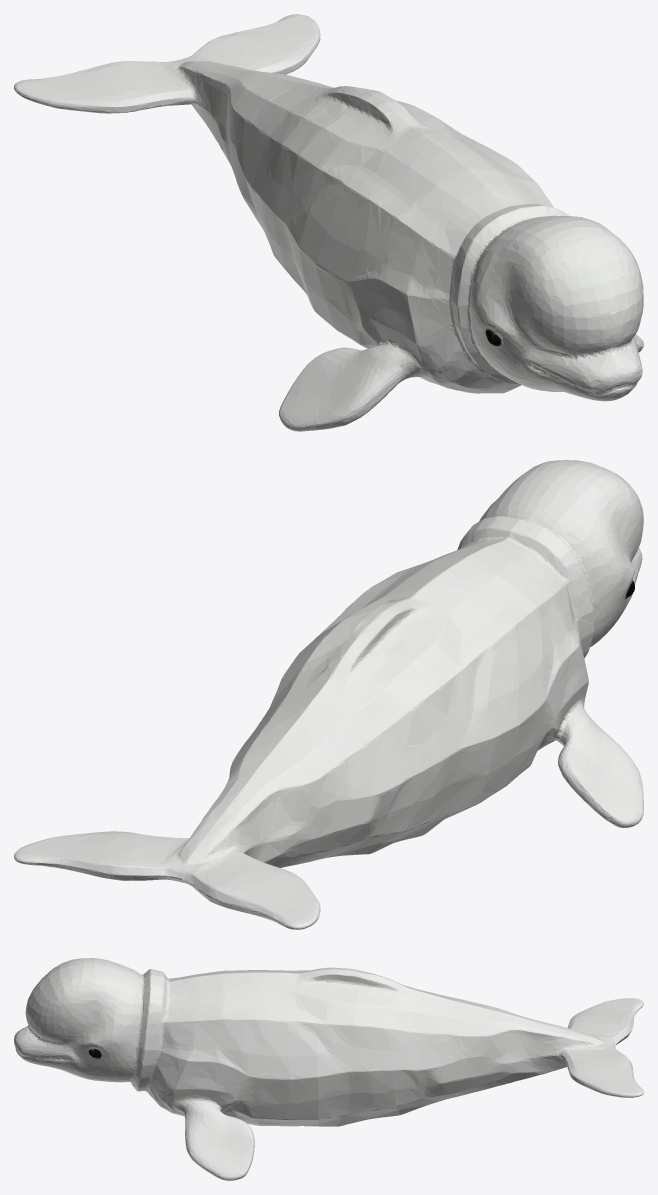
Rendered from meshy-beluga.glb.
The picture shows the model from 3 angles, top to bottom: view 1: azimuth 30°, elevation 25°; view 2: azimuth 150°, elevation 25°; view 3: azimuth 270°, elevation 25°; orthographic projection. The views are drawn at different scales.
Size of the model in its own units: 0.8304 by 0.5318 by 1.9.
1 material, 1 textured.
